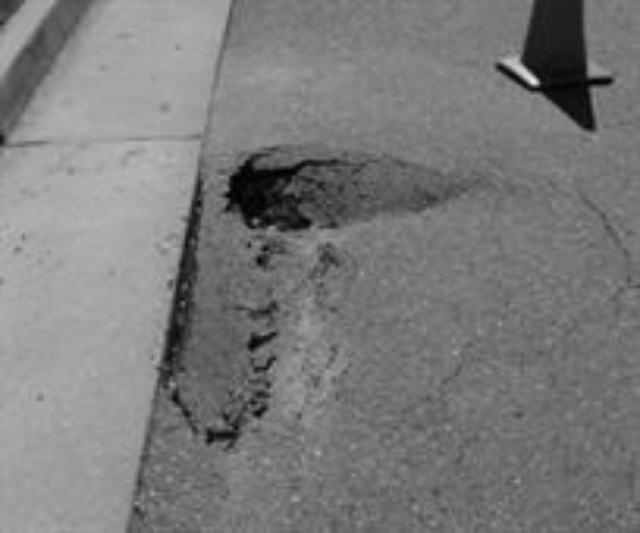Pothole: (186, 122, 488, 256)
